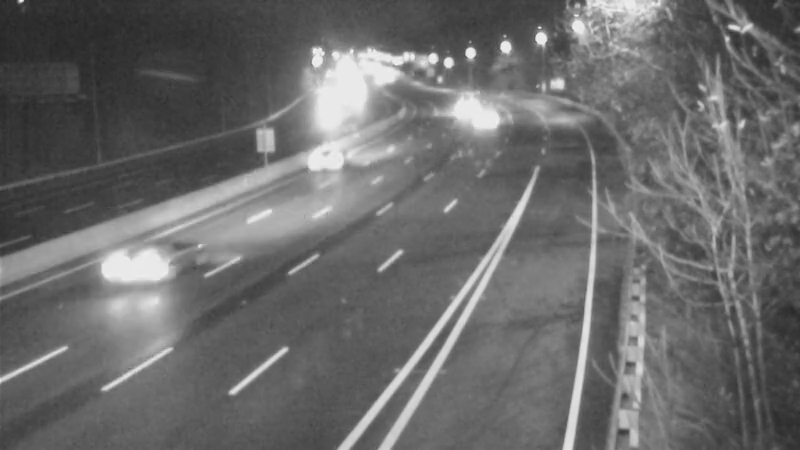vehicle: (285, 117, 365, 197), (94, 228, 174, 308), (440, 75, 490, 125), (462, 92, 512, 142)
